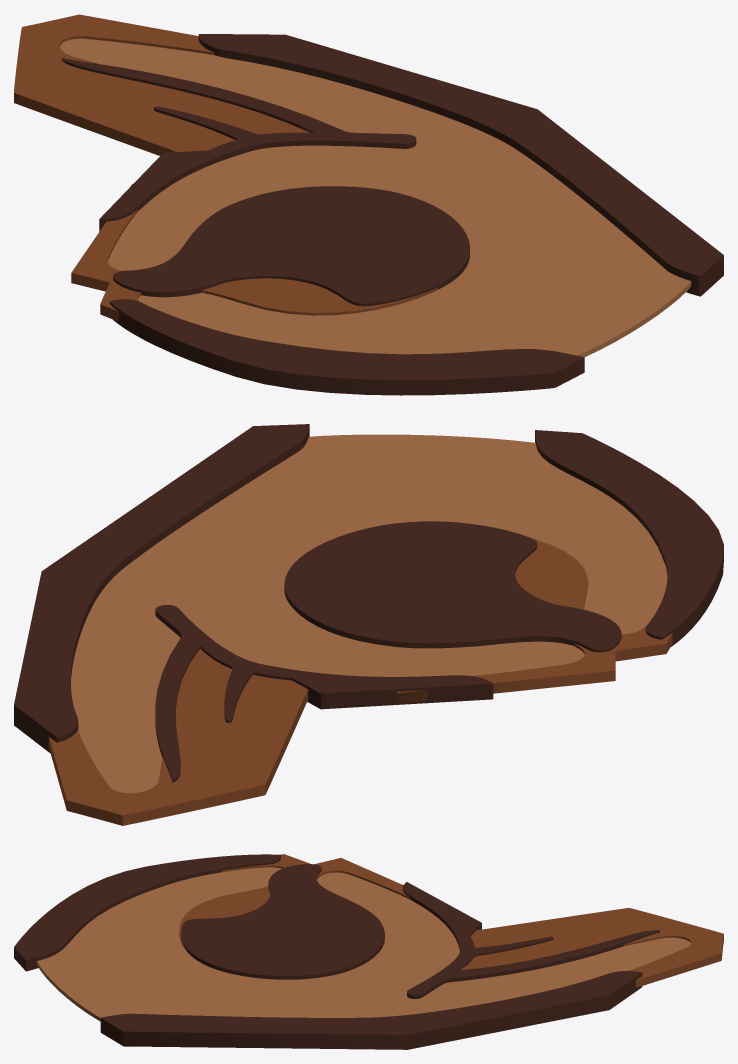
The model's file is emoji_u1f44c_1f3fe.glb.
3 views of the same model, one above another, from view 1: azimuth 30°, elevation 25°; view 2: azimuth 150°, elevation 25°; view 3: azimuth 270°, elevation 25° (orthographic). The views are drawn at different scales.
Parts seen in each view (by area): view 1: emoji_u1f44c_1f3fe; view 2: emoji_u1f44c_1f3fe; view 3: emoji_u1f44c_1f3fe.
Part boxes in pixels (x1,y1,x2,y2): emoji_u1f44c_1f3fe: (14, 14, 723, 395); emoji_u1f44c_1f3fe: (14, 424, 723, 825); emoji_u1f44c_1f3fe: (14, 854, 723, 1049).
Bounding box in the file's own units: 0.0214 × 0.0008 × 0.0348.
